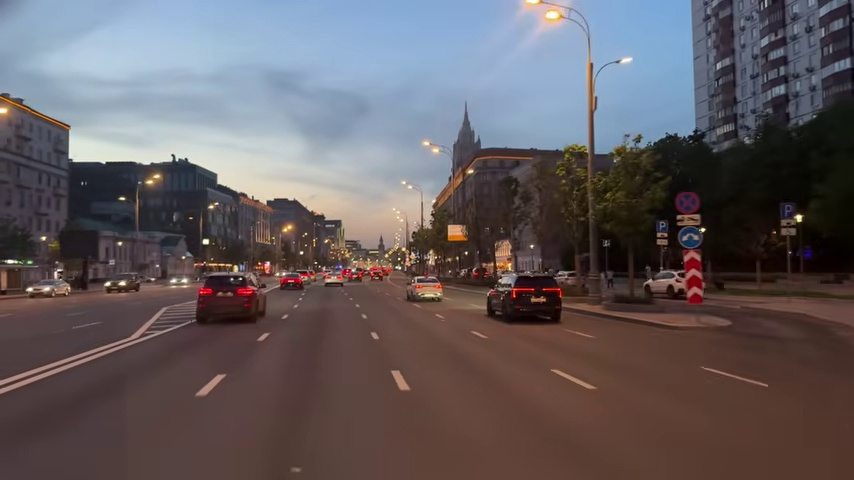acesa: (543, 7, 564, 25), (421, 140, 441, 157), (145, 174, 162, 189)
apagada: (617, 54, 632, 67)
